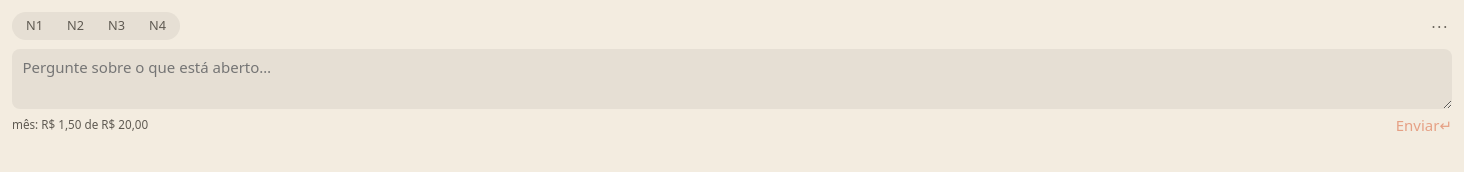
Test: menu ··· fecha com Esc e devolve o foco ao botão
Click the button named "Mais ações".
click(1440, 26)  # box x1=1428 y1=15 x2=1452 y2=37
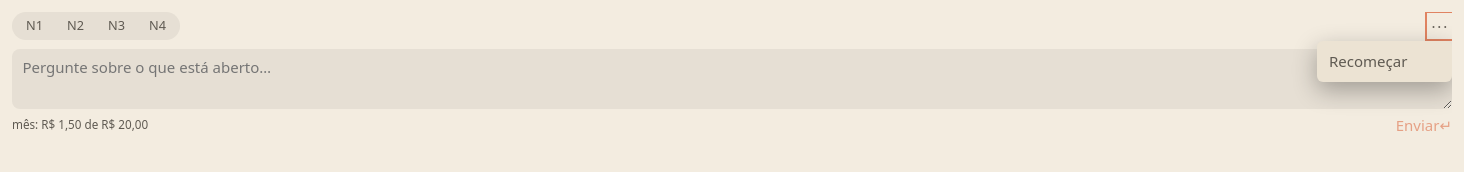
Result: the menu is shown at x1=1317 y1=41 x2=1452 y2=82
Press Escape
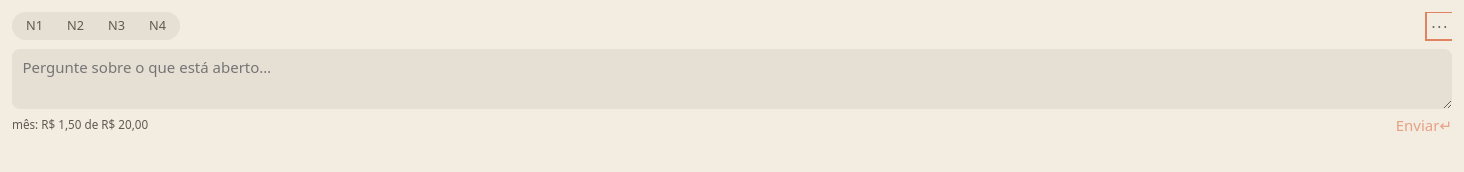
Result: the menu is gone
